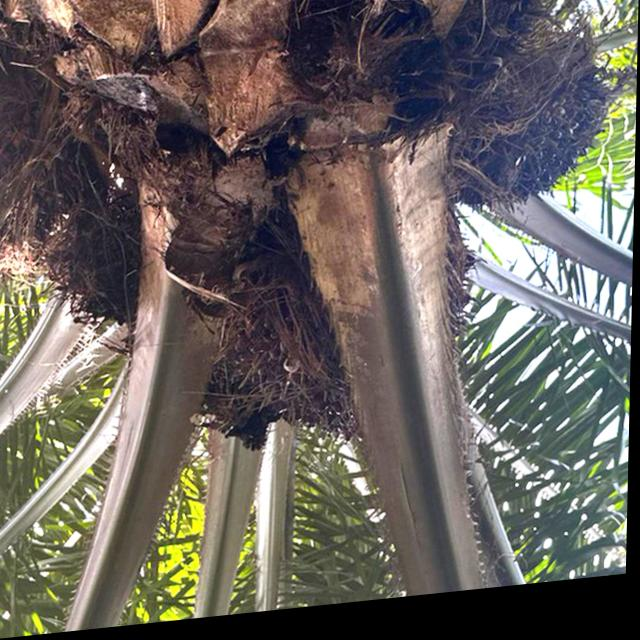ripe: (209, 243, 373, 464)
